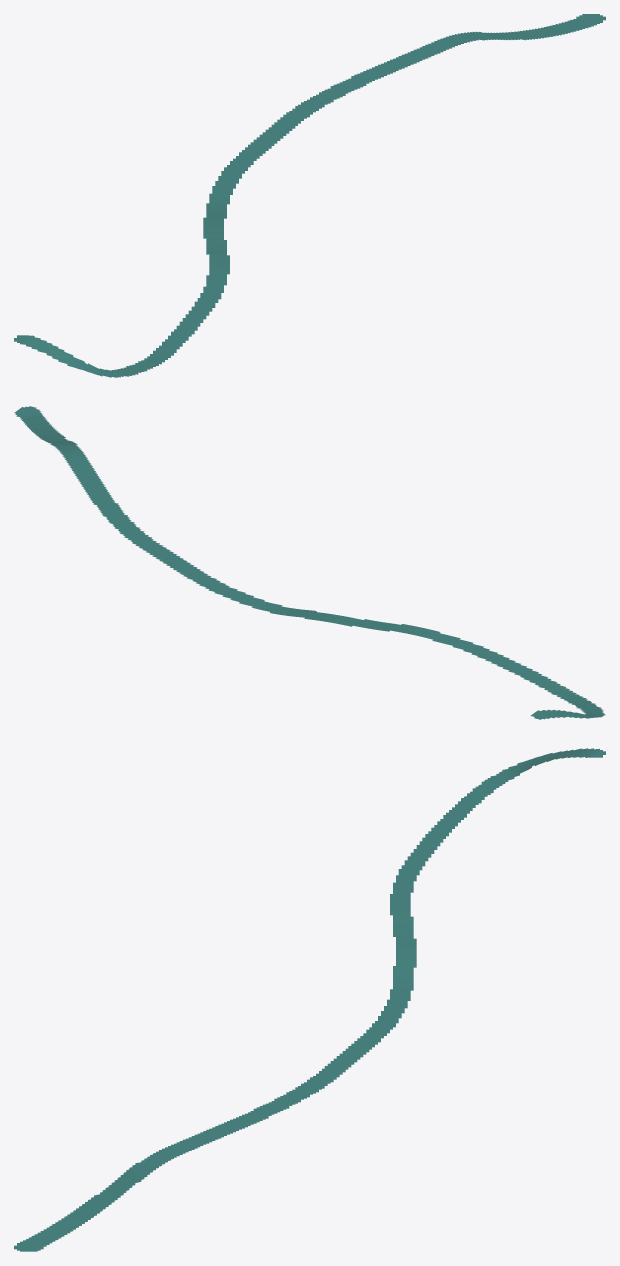
File: SM_River_ForestCreek.fbx
3 renders of one model, top to bottom at view 1: azimuth 90°, elevation 25°; view 2: azimuth 150°, elevation 25°; view 3: azimuth 270°, elevation 25°, orthographic. The views are drawn at different scales.
Visible parts, largest first — view 1: SM_River_ForestCreek; view 2: SM_River_ForestCreek; view 3: SM_River_ForestCreek.
Boxes of the visible parts, x1,y1,x2,y2 form: SM_River_ForestCreek: [14, 14, 605, 377]; SM_River_ForestCreek: [14, 406, 605, 719]; SM_River_ForestCreek: [14, 748, 605, 1251].
Bounding box in the file's own units: 510 × 48.31 × 300.
